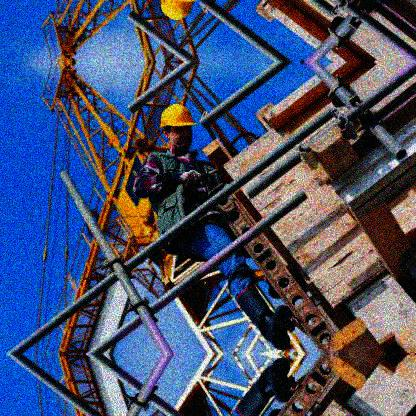helmet: (159, 105, 197, 149)
